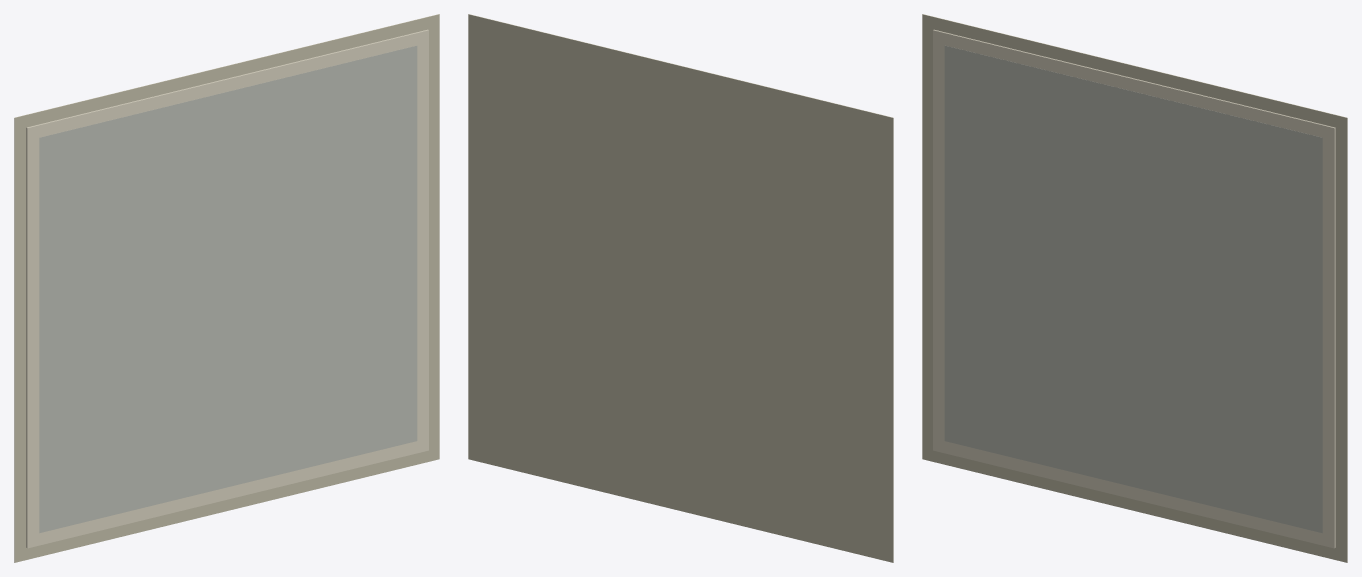
Rendered from prepared_ldpe_stock.glb.
The picture shows the model from 3 angles, left to right: view 1: azimuth 30°, elevation 25°; view 2: azimuth 150°, elevation 25°; view 3: azimuth 330°, elevation 25°; orthographic projection.
Visible parts, largest first — view 1: raw_film_6, paper_interleaf_5, paper_backing, lot_card, paper_interleaf_4, paper_interleaf_2, paper_interleaf_1; view 2: paper_backing; view 3: raw_film_6, paper_interleaf_5, paper_backing, lot_card, paper_interleaf_4, paper_interleaf_2, paper_interleaf_1.
Boxes of the visible parts, left/top/right/bottom form: raw_film_6: left=39, top=45, right=417, bottom=533; paper_interleaf_5: left=27, top=30, right=428, bottom=548; paper_backing: left=14, top=14, right=439, bottom=562; lot_card: left=62, top=459, right=392, bottom=548; paper_interleaf_4: left=27, top=30, right=428, bottom=547; paper_interleaf_2: left=26, top=30, right=425, bottom=547; paper_interleaf_1: left=26, top=29, right=427, bottom=547; paper_backing: left=468, top=14, right=893, bottom=562; raw_film_6: left=944, top=45, right=1322, bottom=533; paper_interleaf_5: left=933, top=30, right=1334, bottom=548; paper_backing: left=922, top=14, right=1347, bottom=562; lot_card: left=969, top=459, right=1299, bottom=548; paper_interleaf_4: left=933, top=30, right=1334, bottom=547; paper_interleaf_2: left=936, top=30, right=1335, bottom=547; paper_interleaf_1: left=934, top=29, right=1335, bottom=547.
Bounding box in the file's own units: 0.18 × 0.18 × 0.0011.
Materials: 4 (1 with a texture image).
